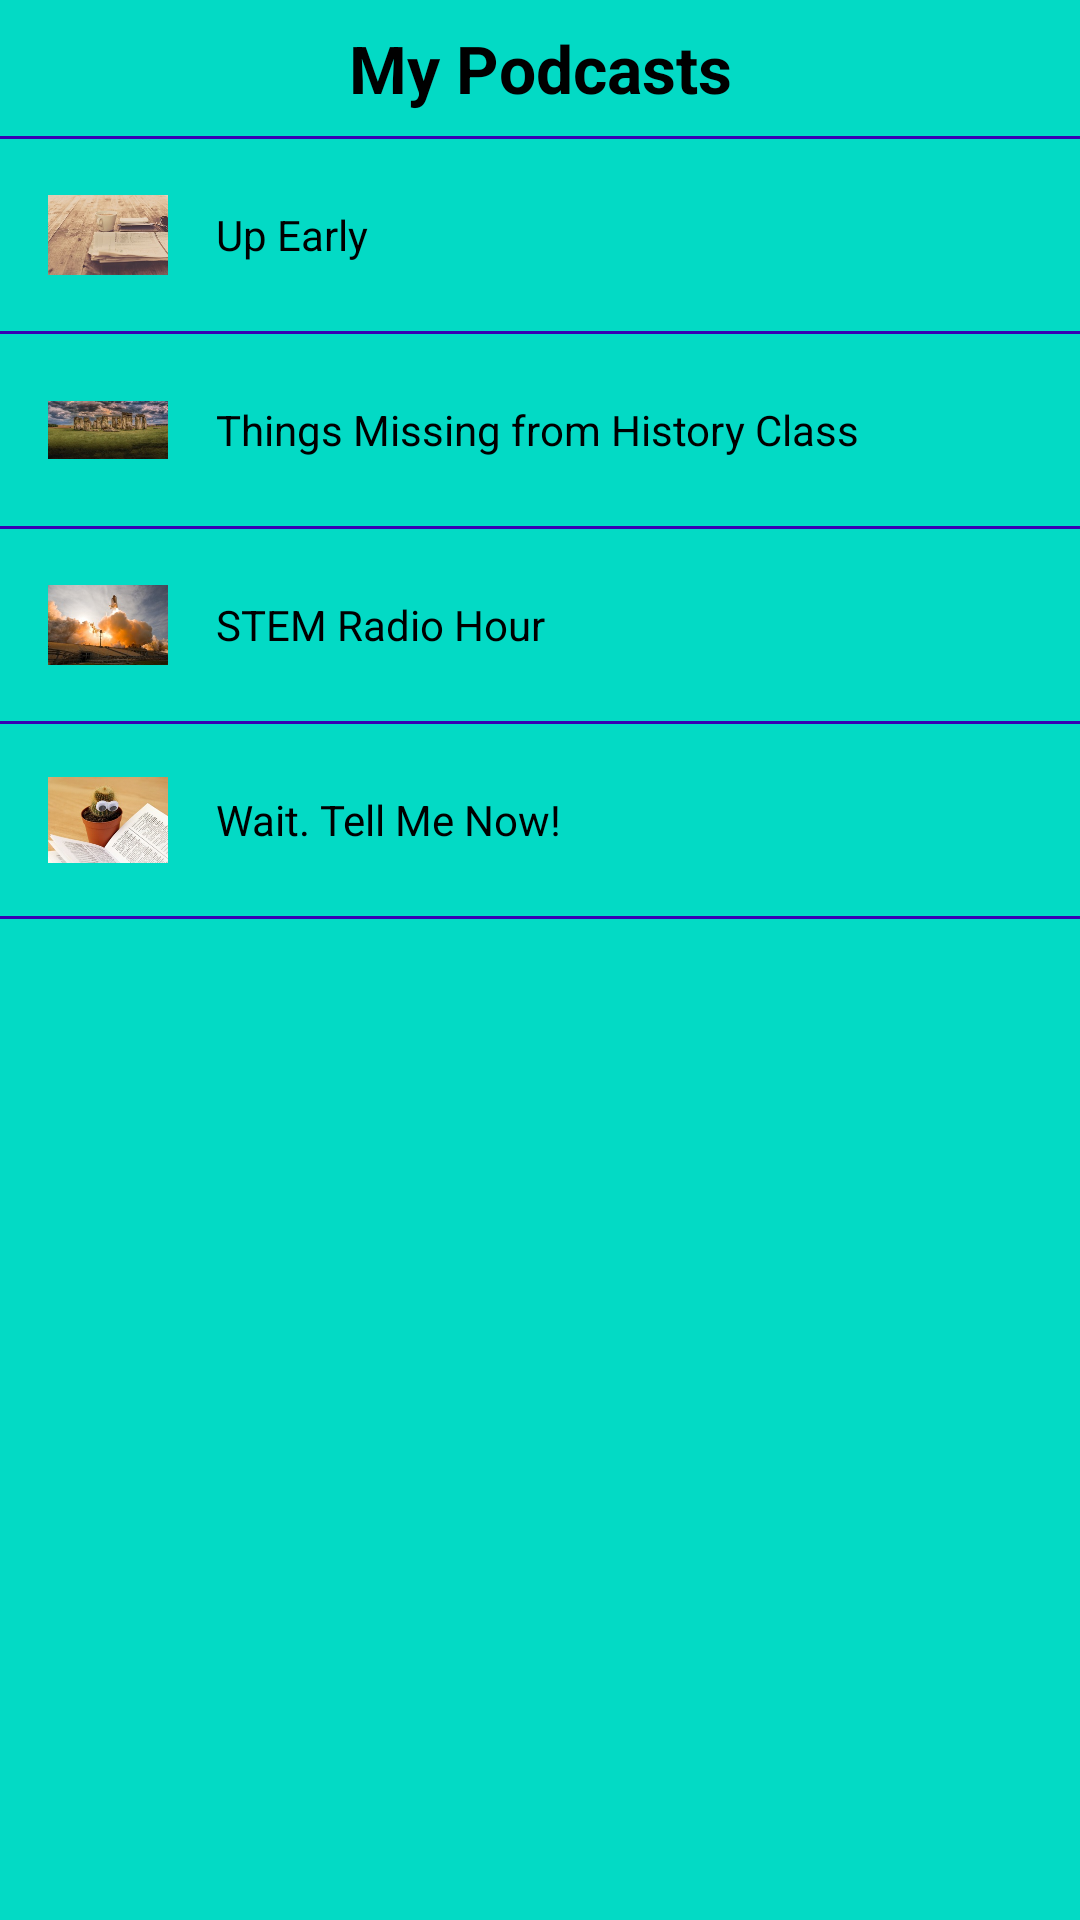

Where to tap for icons on this 1080×1920 app screen, as (x=x, y=y):
comedy news: (x=108, y=820)
daily news: (x=108, y=235)
